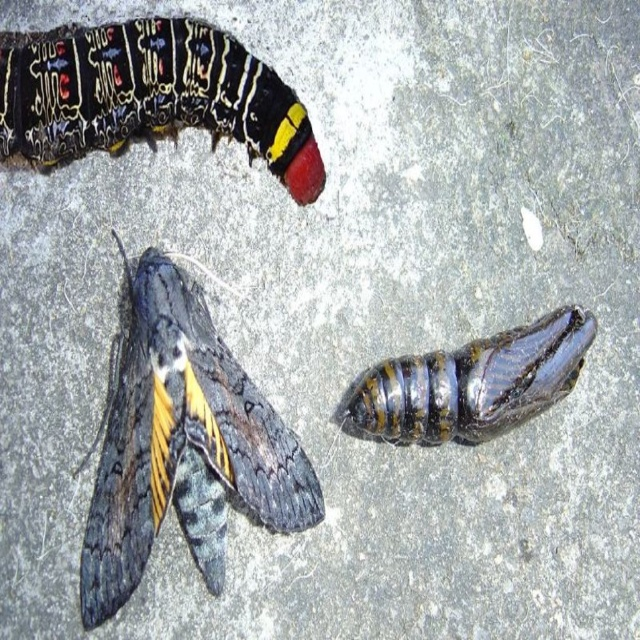Caterpillar: (0, 11, 326, 205)
